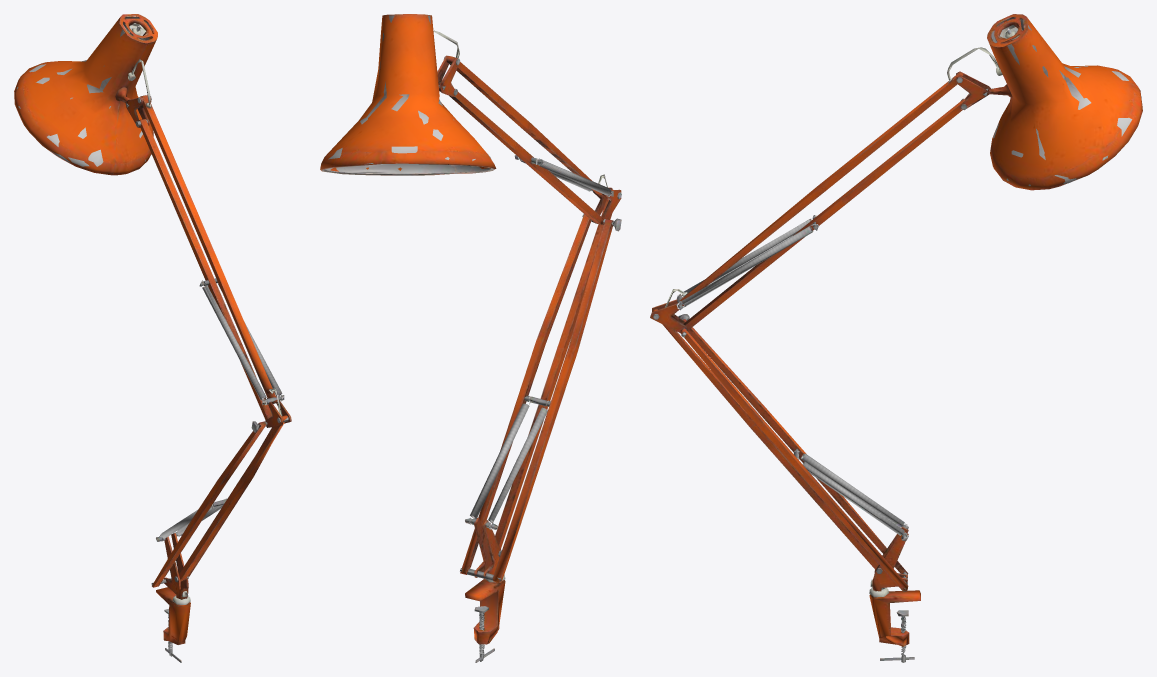
Rendered from desk_lamp_arm_01.glb.
The picture shows the model from 3 angles, left to right: view 1: azimuth 30°, elevation 25°; view 2: azimuth 150°, elevation 25°; view 3: azimuth 270°, elevation 25°; orthographic projection. The views are drawn at different scales.
Visible parts, largest first — view 1: desk_lamp_arm_01; view 2: desk_lamp_arm_01; view 3: desk_lamp_arm_01.
Boxes of the visible parts, left/top/right/bottom form: desk_lamp_arm_01: left=14, top=14, right=291, bottom=662; desk_lamp_arm_01: left=320, top=14, right=621, bottom=662; desk_lamp_arm_01: left=650, top=14, right=1142, bottom=662.
Size of the model in its own units: 0.2017 by 0.8926 by 0.6132.
2 materials, 2 textured.
